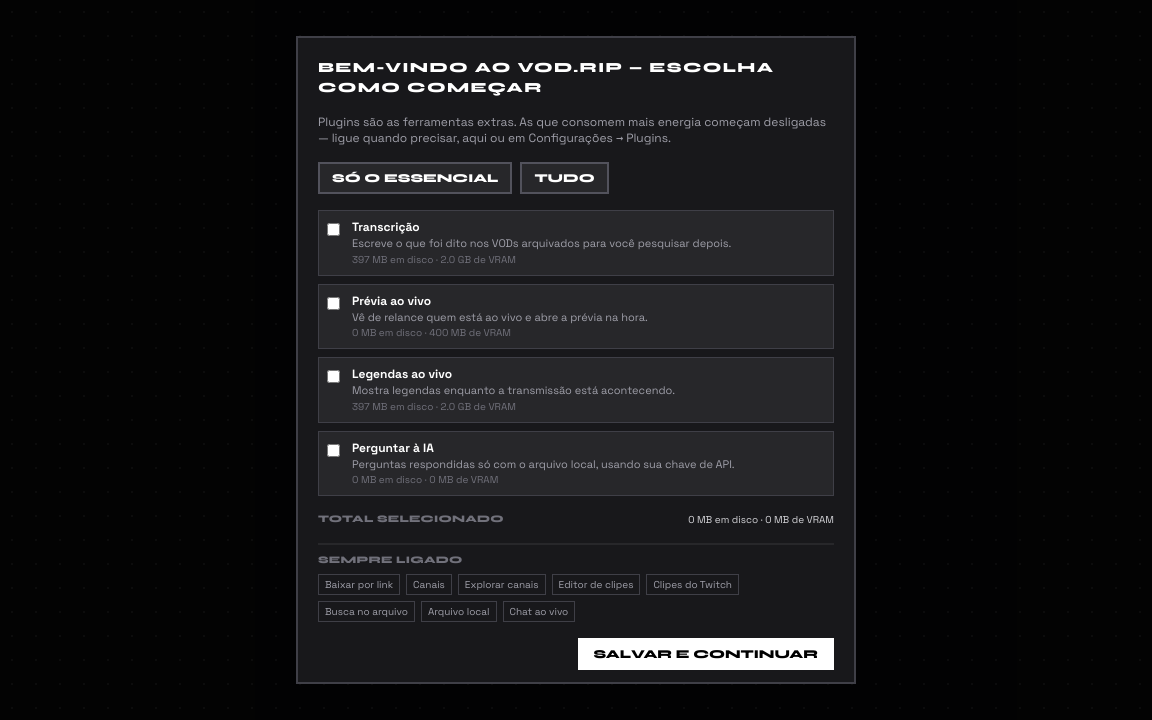
FirstRunWizard — seletor de plugins (pt-BR) › troca o número por 'incluso (mesmo modelo)' quando shares_with já está ligado
Click the checkbox labelled "Legendas ao vivo".
click(334, 376)  # box [327,370,340,383]
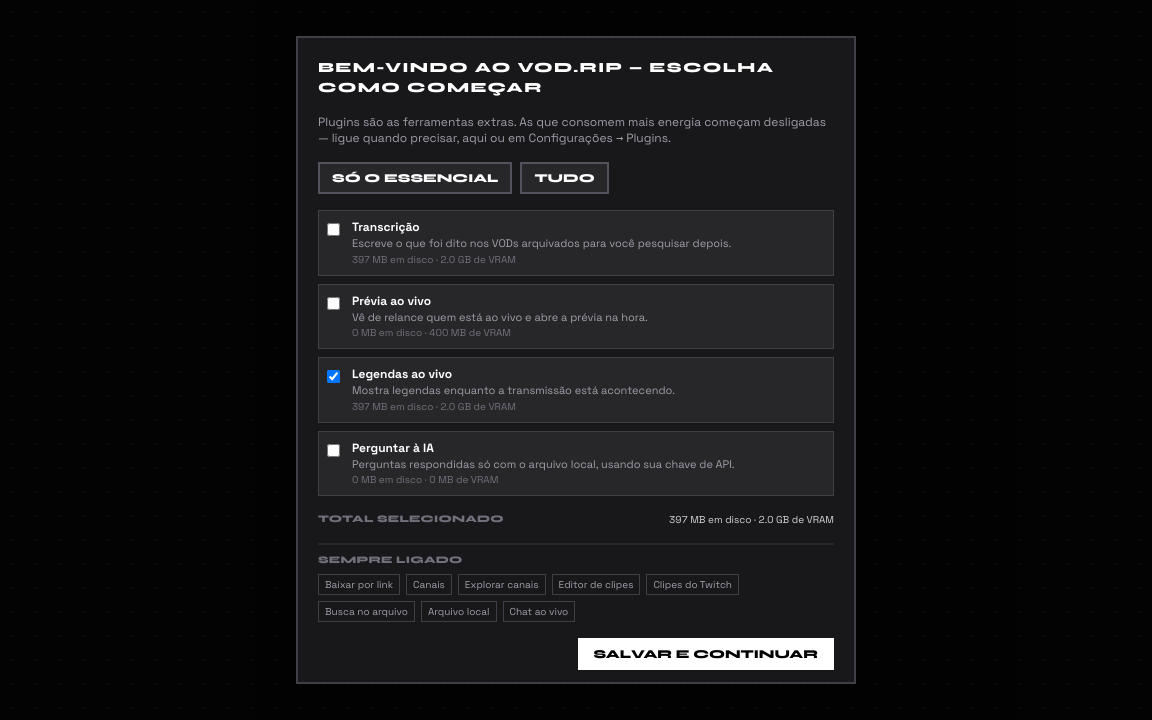
Check: the text with test id "wizard-cost-live-subtitles" reads "397 MB em disco · 2.0 GB de VRAM", box [352,400,516,412]
Click the checkbox labelled "Transcrição".
click(334, 230)  # box [327,223,340,236]
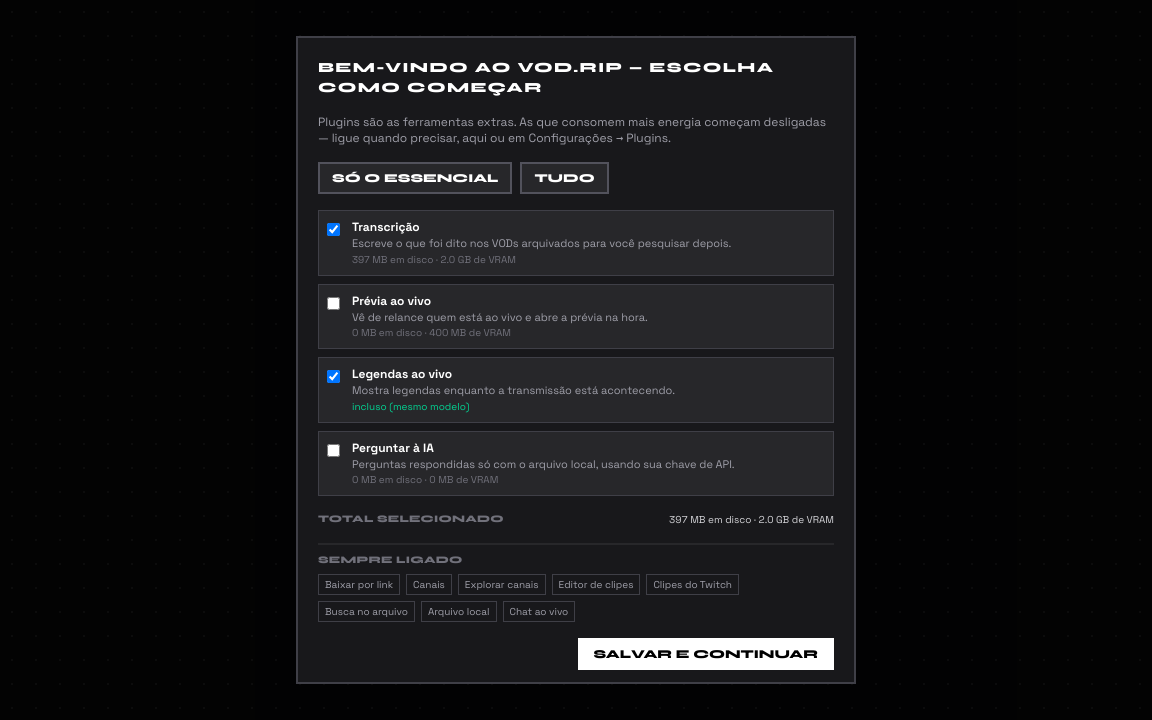
Check: the text with test id "wizard-cost-live-subtitles" reads "incluso (mesmo modelo)", box [352,400,470,412]
